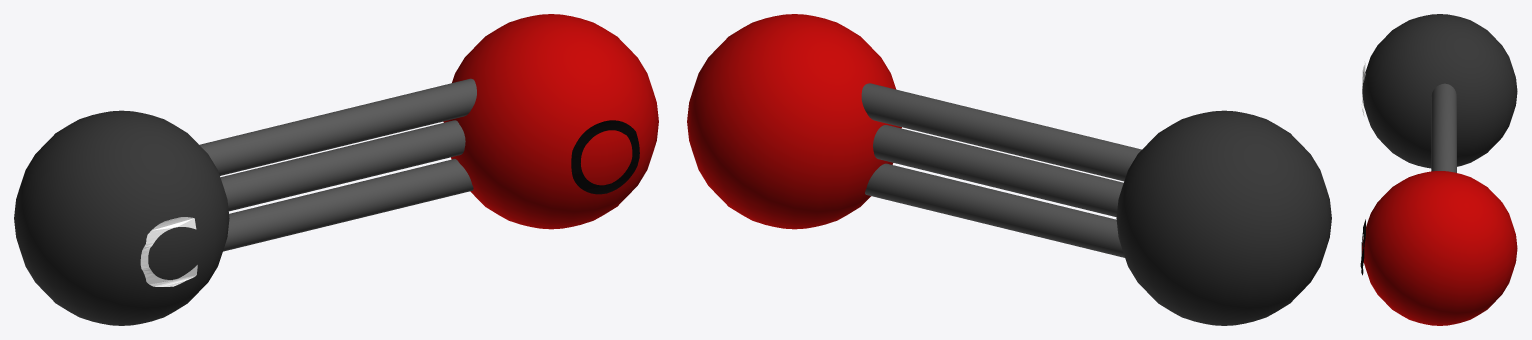
The picture shows the model from 3 angles, left to right: view 1: azimuth 30°, elevation 25°; view 2: azimuth 150°, elevation 25°; view 3: azimuth 270°, elevation 25°; orthographic projection. The views are drawn at different scales.
Visible parts, largest first — view 1: Sphere.022, Sphere.021, Cylinder.028, Cylinder.017, Cylinder.027, Text.021, Text.022; view 2: Sphere.022, Sphere.021, Cylinder.028, Cylinder.017, Cylinder.027; view 3: Sphere.021, Sphere.022, Cylinder.028, Text.021.
Boxes of the visible parts, bbox=[...] form: Sphere.022: bbox=[14, 110, 229, 325]; Sphere.021: bbox=[443, 14, 658, 229]; Cylinder.028: bbox=[199, 78, 476, 175]; Cylinder.017: bbox=[223, 159, 473, 251]; Cylinder.027: bbox=[220, 120, 465, 211]; Text.021: bbox=[571, 120, 639, 194]; Text.022: bbox=[140, 217, 197, 286]; Sphere.022: bbox=[1116, 110, 1331, 325]; Sphere.021: bbox=[687, 14, 901, 229]; Cylinder.028: bbox=[861, 83, 1141, 181]; Cylinder.017: bbox=[865, 163, 1124, 257]; Cylinder.027: bbox=[873, 125, 1123, 217]; Sphere.021: bbox=[1362, 171, 1517, 325]; Sphere.022: bbox=[1362, 14, 1517, 168]; Cylinder.028: bbox=[1431, 83, 1456, 172]; Text.021: bbox=[1360, 219, 1365, 275].
Bounding box in the file's own units: 462 × 146 × 142.
